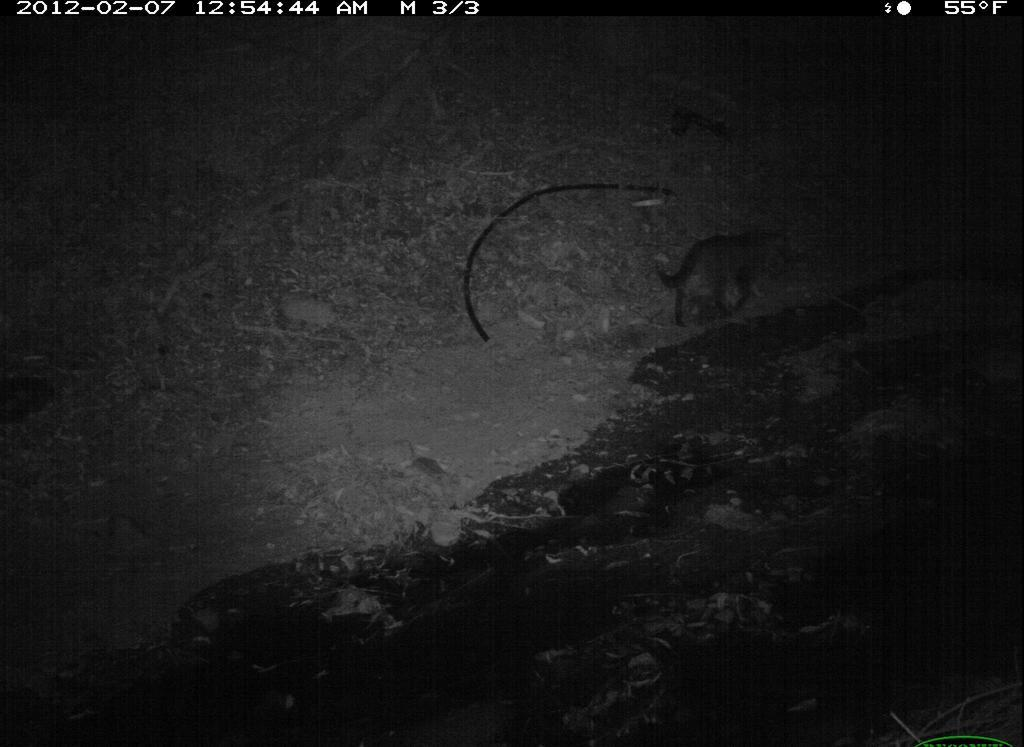cat: (633, 184, 808, 346)
